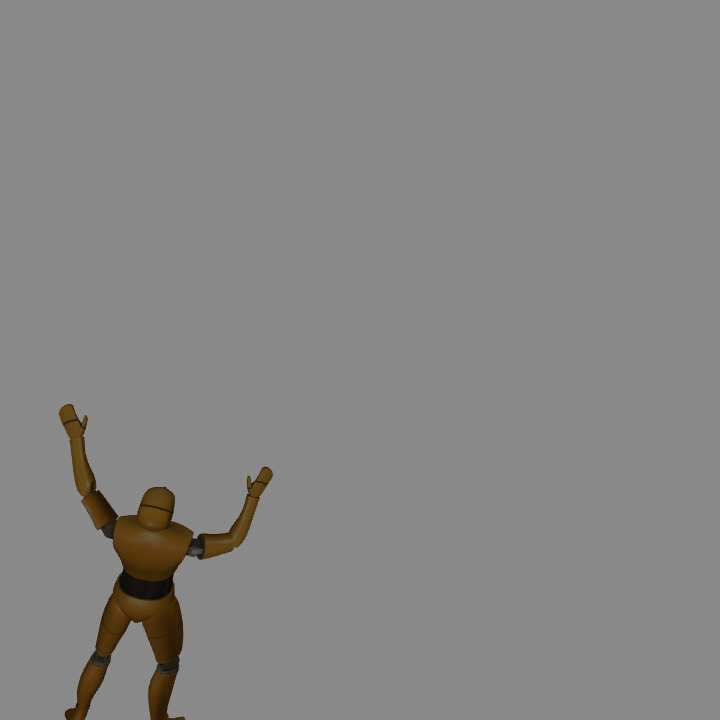victim: (114, 485, 185, 720)
